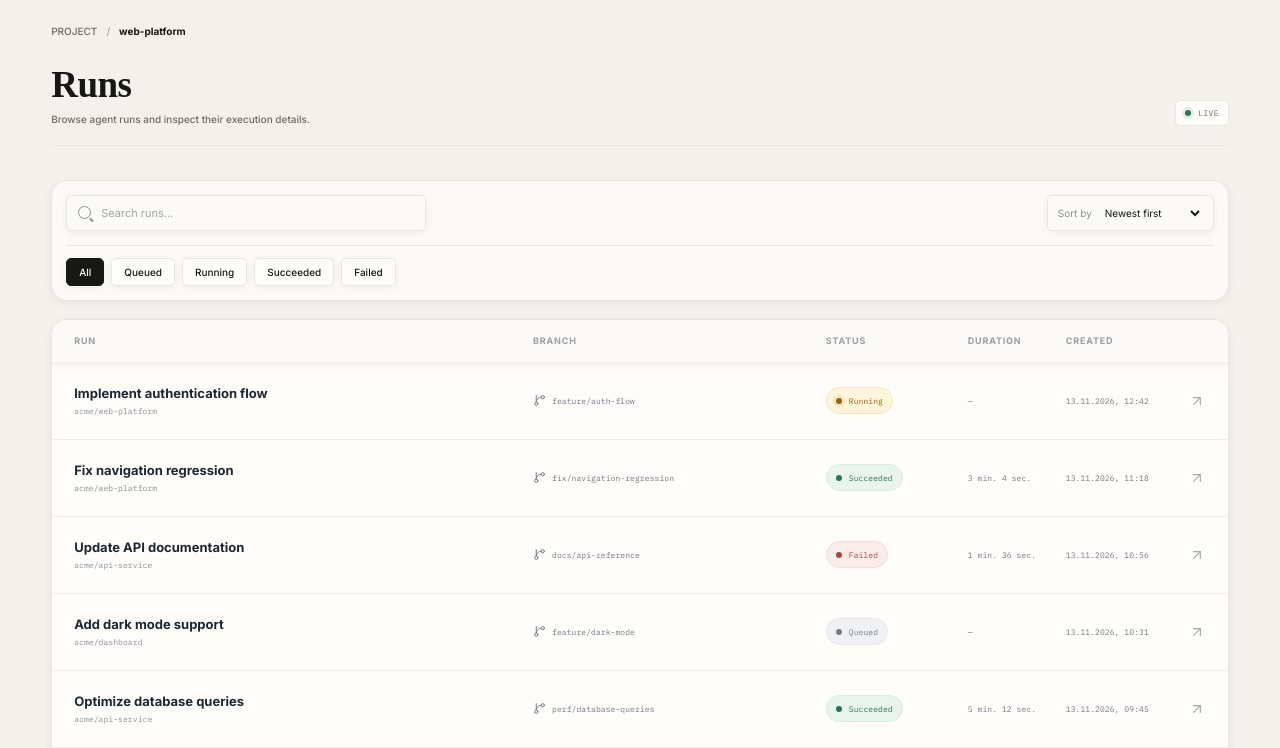
Test: RunsPage › shows an empty state and lets the user clear filters
The width and height of the screenshot is (1280, 748).
Expected: the text "Implement authentication flow" is shown, x1=74 y1=385 x2=268 y2=401
Type "missing-run" into the search field named "Search runs by name or repository" at x=258, y=212, box x1=101 y1=206 x2=414 y2=220
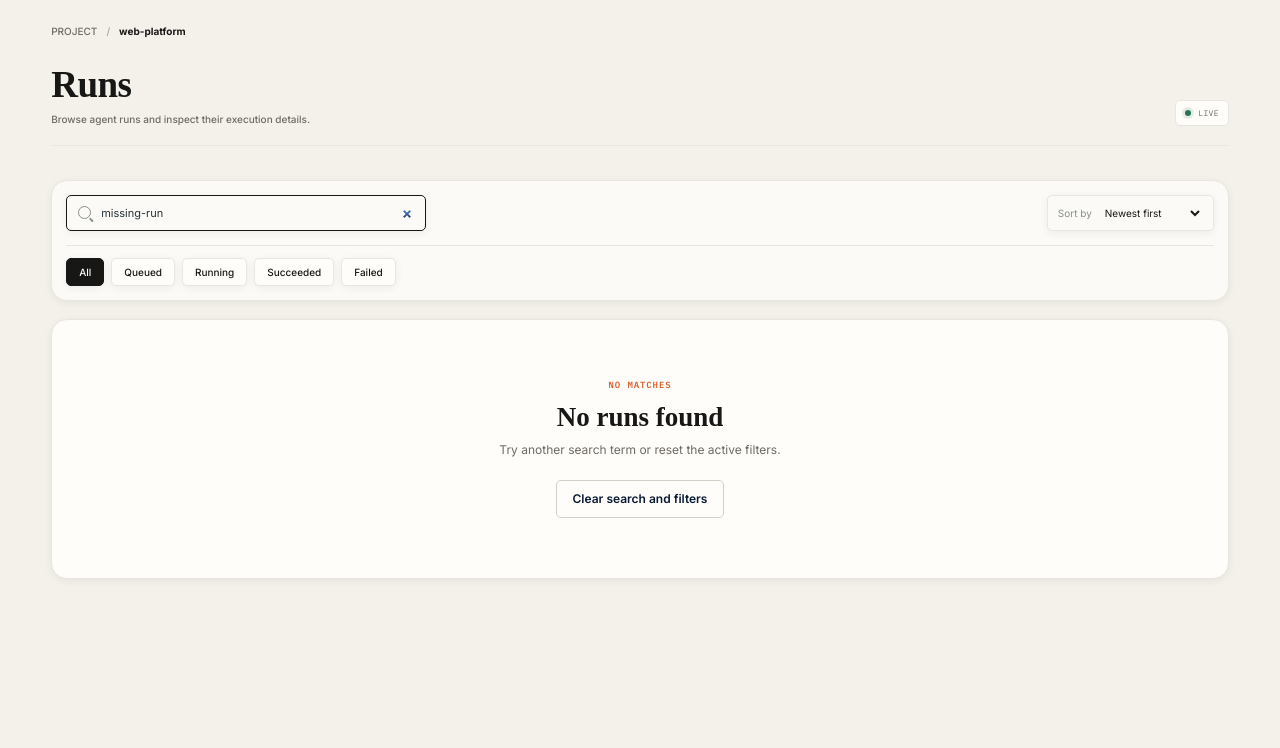
Result: the message shows "No runs found" at x1=557 y1=402 x2=723 y2=432
Click the button "Clear search and filters" at x=640, y=499, box x1=556 y1=480 x2=724 y2=518
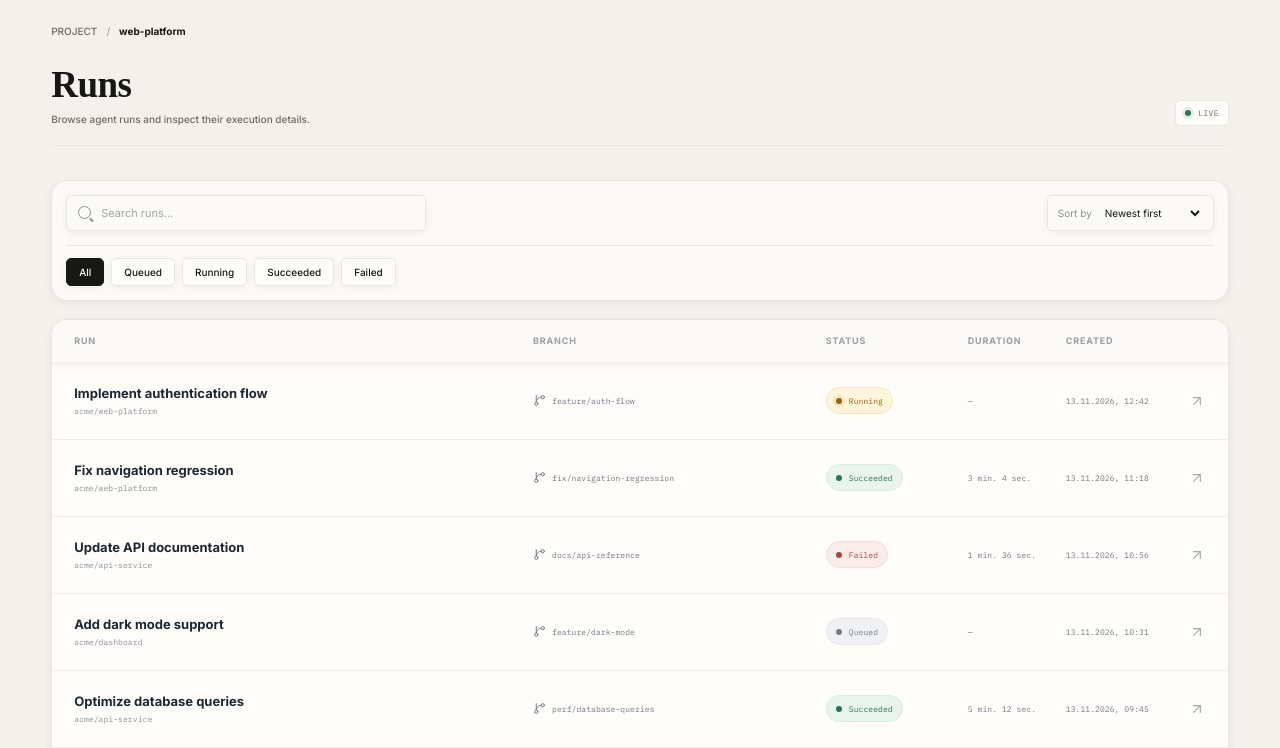
Result: the text "Implement authentication flow" is shown at x1=74 y1=385 x2=268 y2=401
